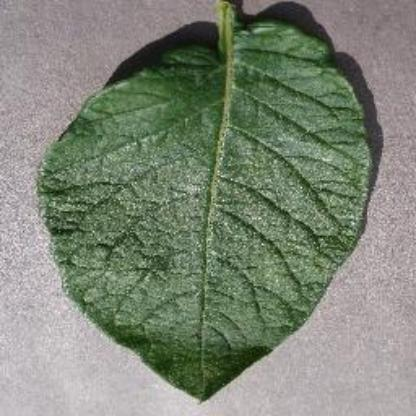Healthy-plant: (32, 14, 378, 402)
